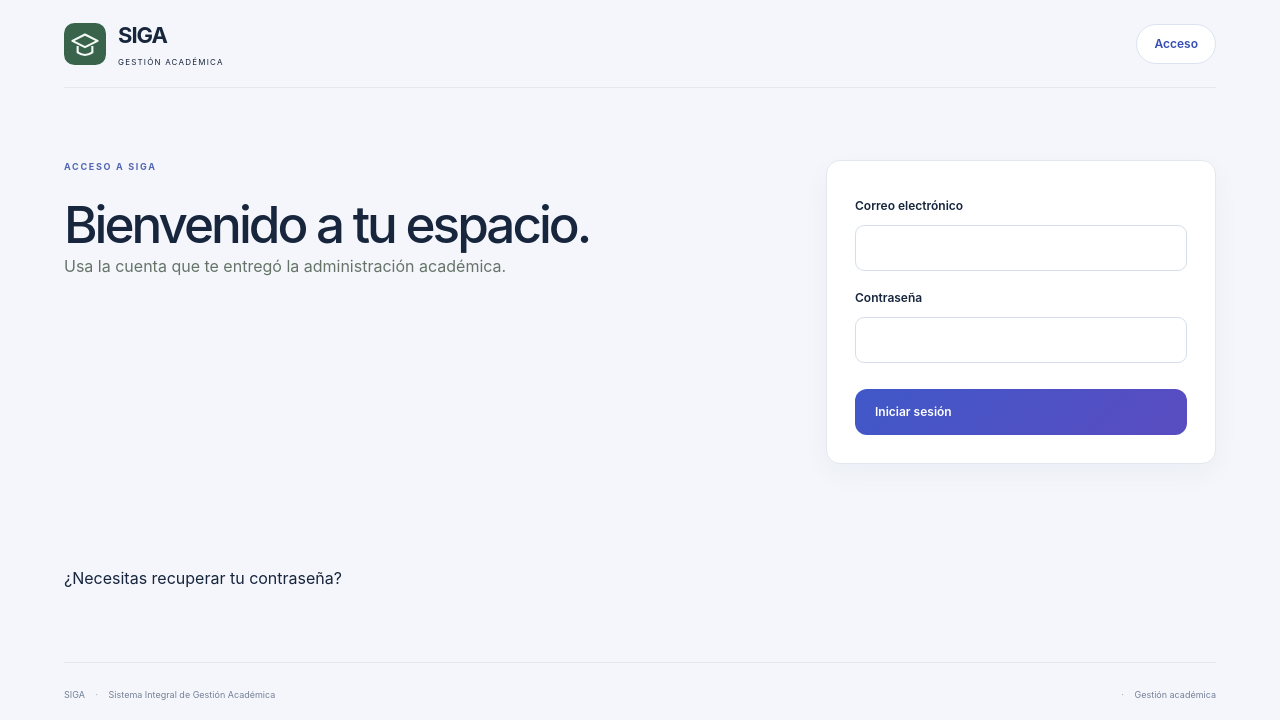
Test case: Portal y acceso › redirige al perfil propio tras acceso y lo protege sin sesión
Type "ana@example.invalid" into the field labelled "Correo electrónico" at [1021, 248], box [855,225,1187,271]
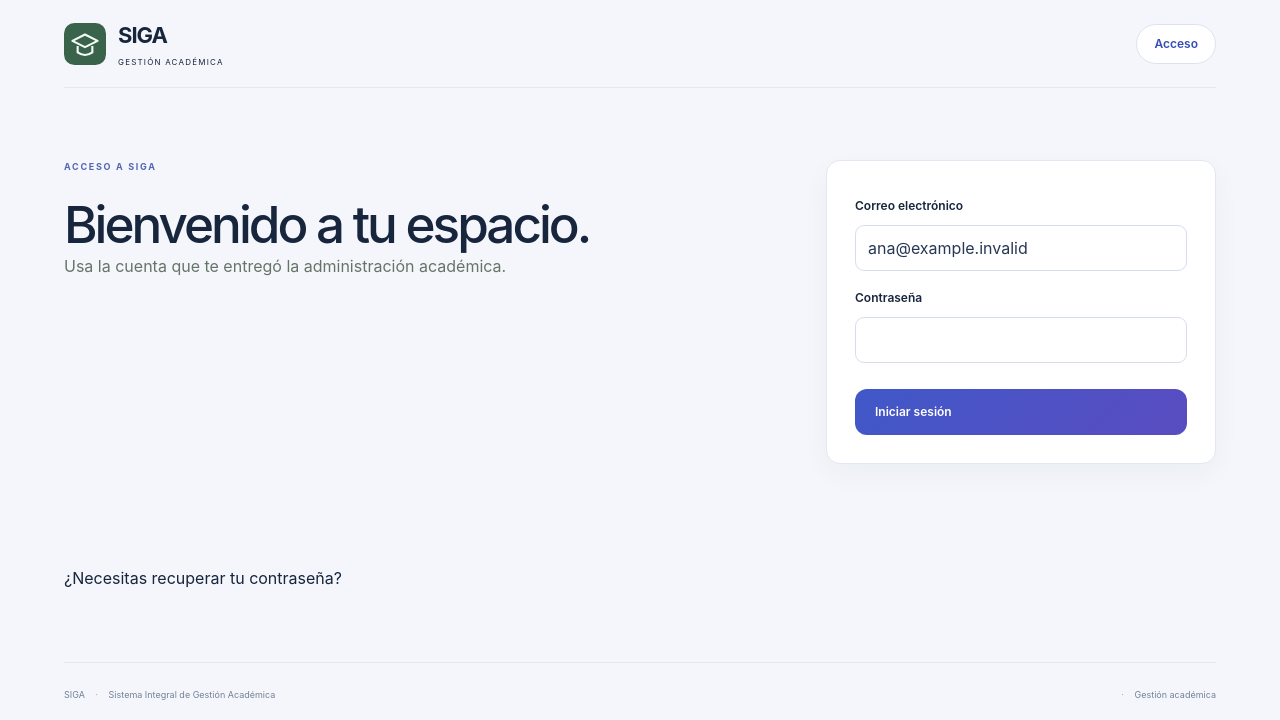
Type "ClaveFicticiaDePrueba_2026!" into the password field labelled "Contraseña" at [1021, 340], box [855,317,1187,363]
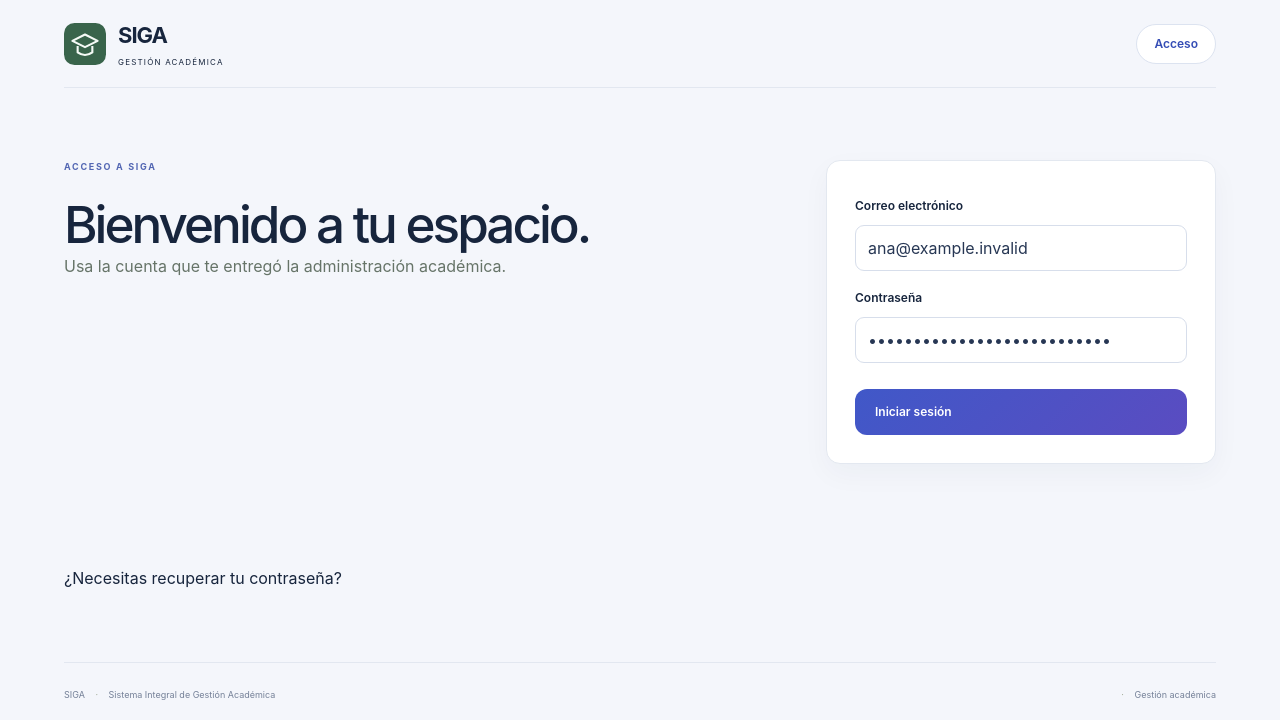
Click the button "Iniciar sesión" at [913, 412], box [855,389,1187,435]
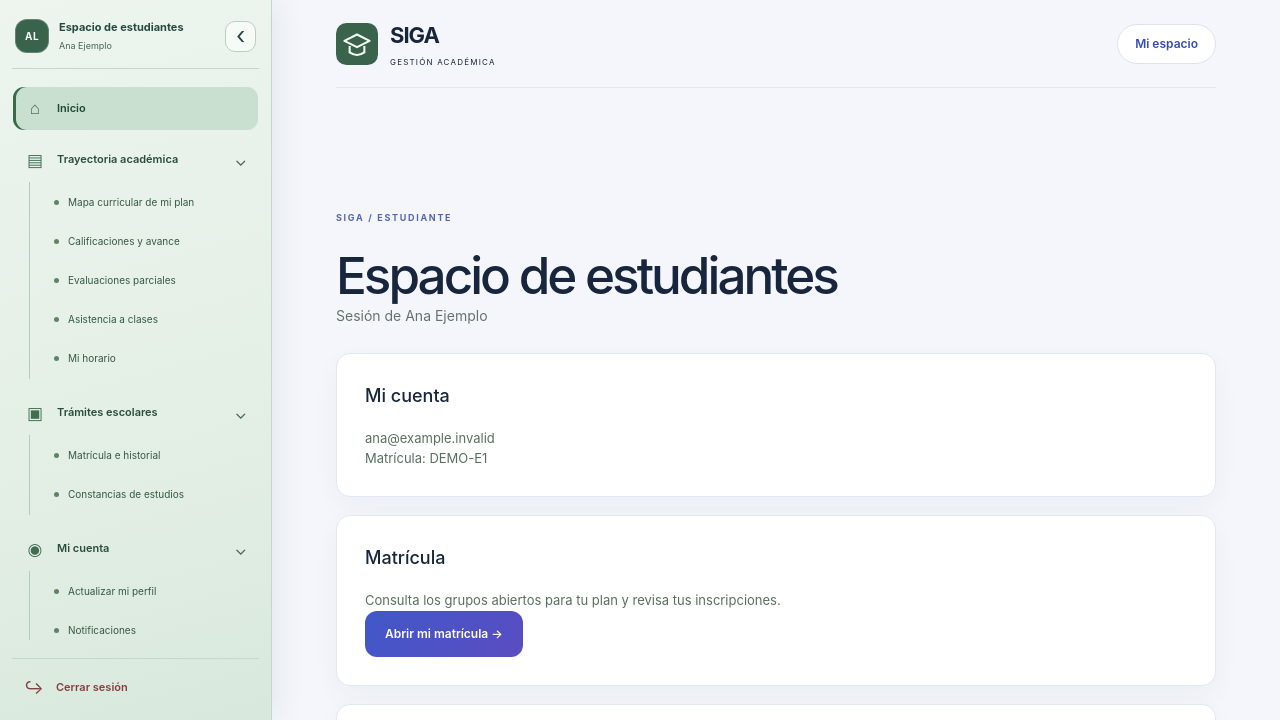
Result: the heading "Espacio de estudiantes" is shown at [336,247,837,303]
Result: the text "Matrícula: DEMO-E1" is shown at [365,450,487,466]
